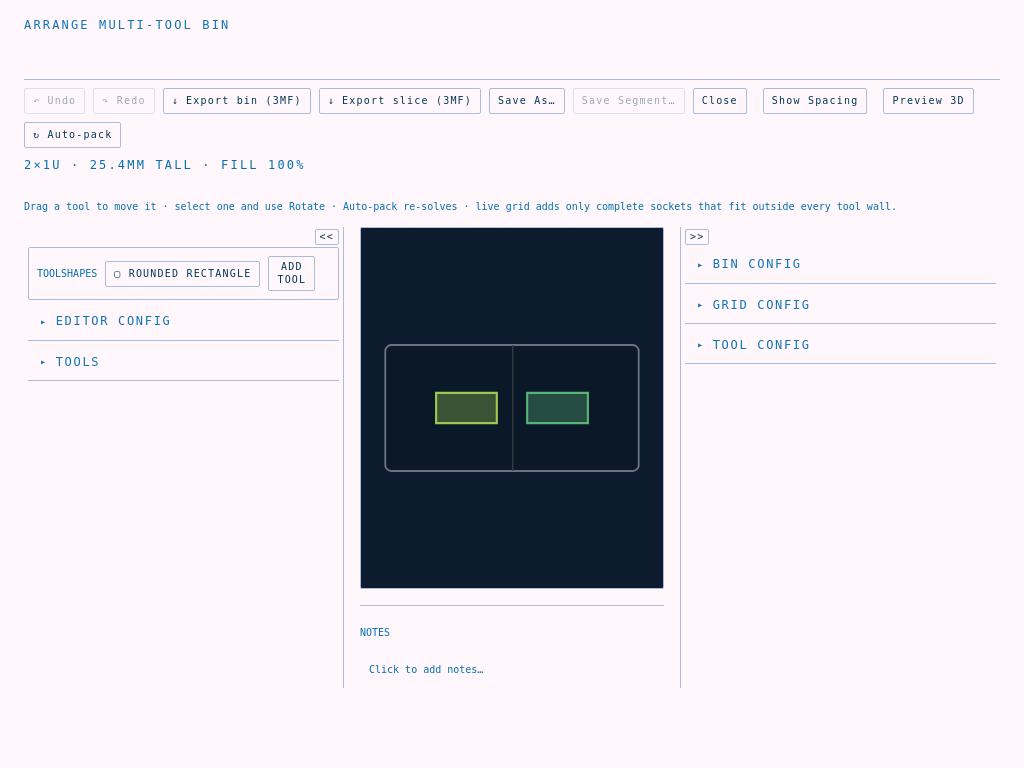
Scenario: CombineEditor add/remove tools › clicking the grid while armed duplicates the tool and places it there
Click the button titled "Add an existing tool from the Tool Library — placed by clicking the grid" at (292,274), box x1=268 y1=256 x2=315 y2=291
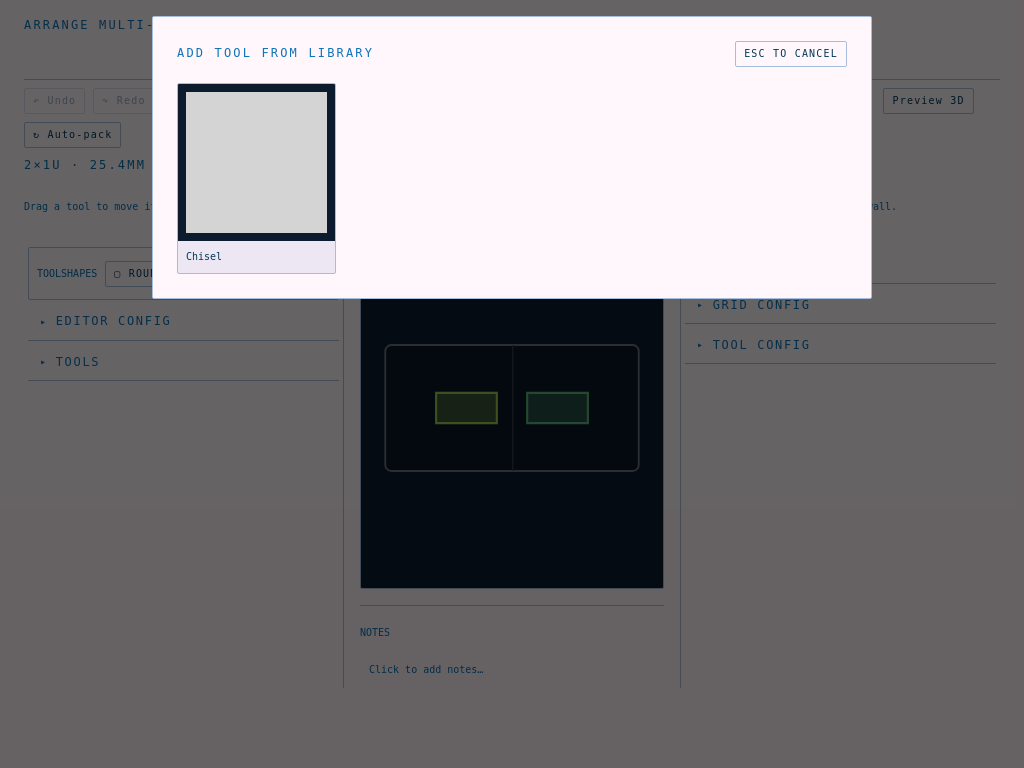
Click the button "Chisel" at (256,178), box x1=177 y1=83 x2=336 y2=274
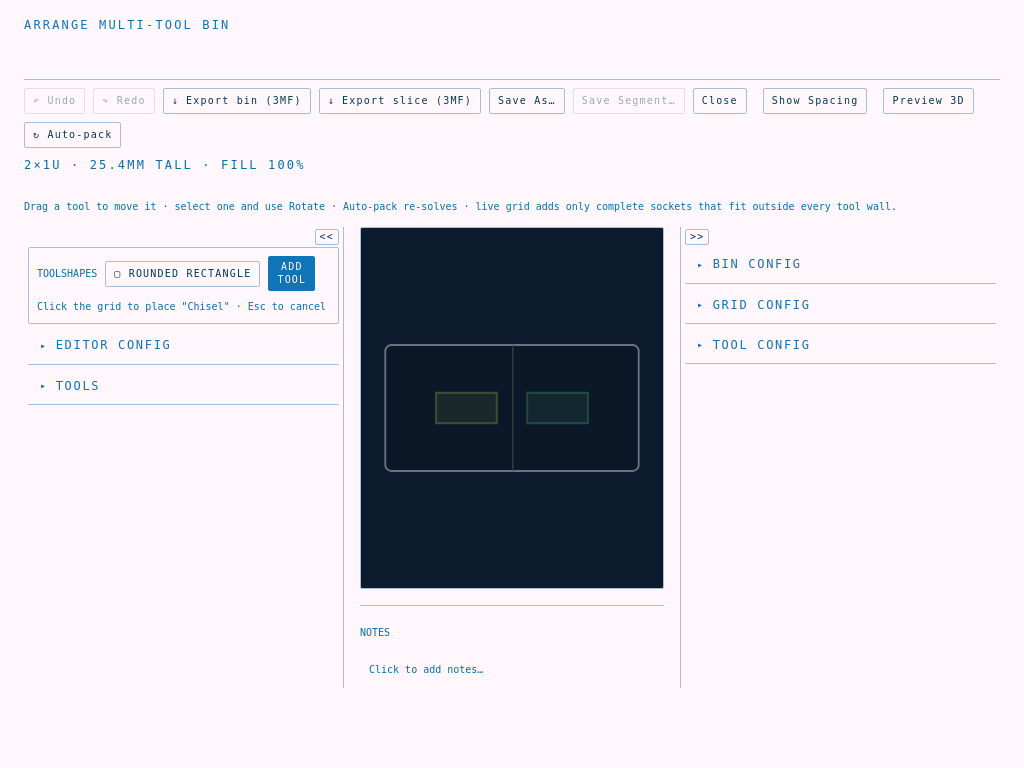
Press the mouse on the icon at (512,408), box x1=361 y1=228 x2=663 y2=588
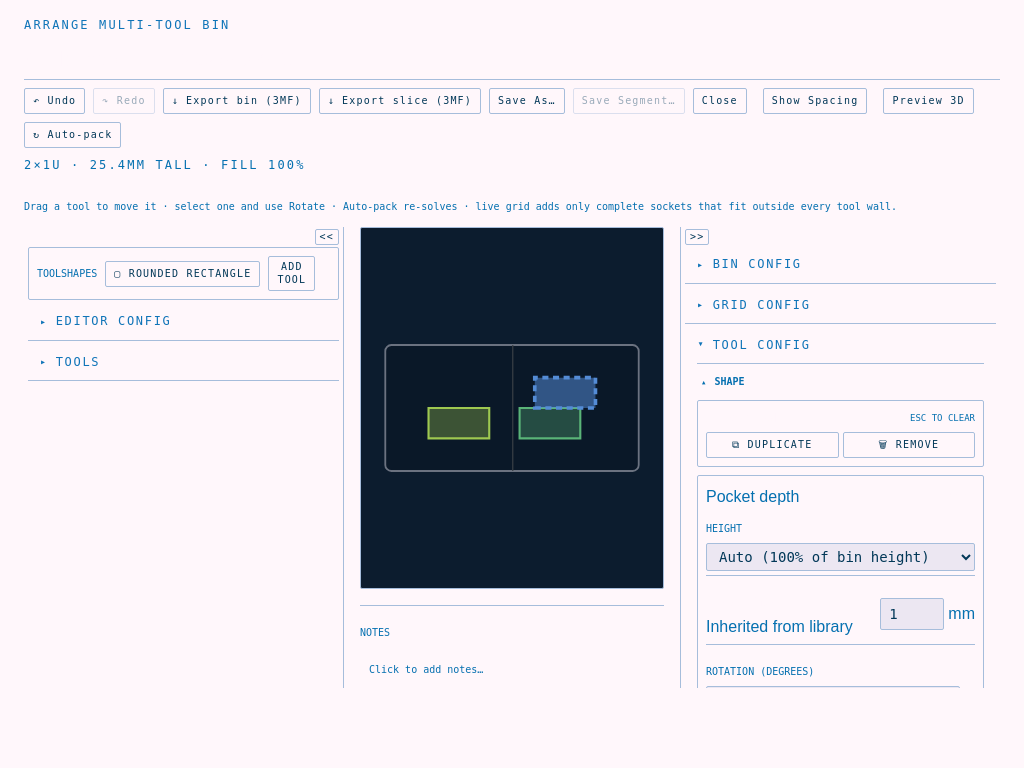
expect the text "Click the grid to place" is gone: met
